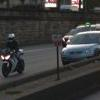Motorcycle: (1, 34, 30, 77)
